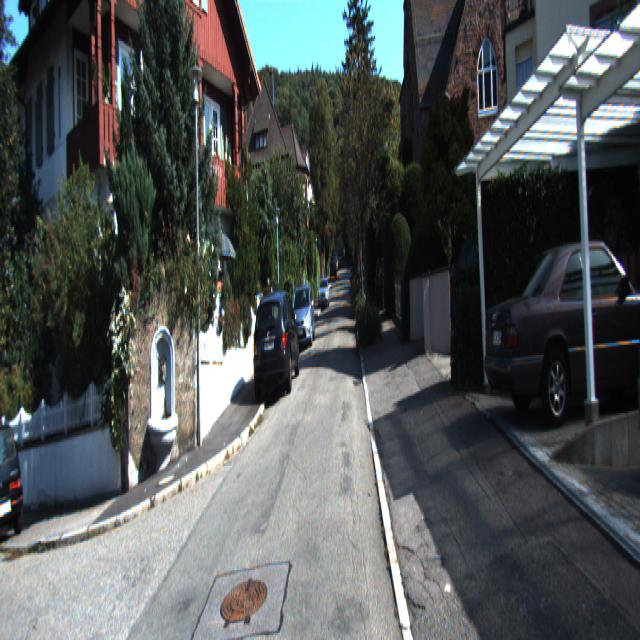Car: (484, 229, 640, 431), (253, 282, 301, 399), (0, 411, 27, 575), (628, 232, 640, 480), (291, 281, 315, 347), (318, 278, 331, 309)
